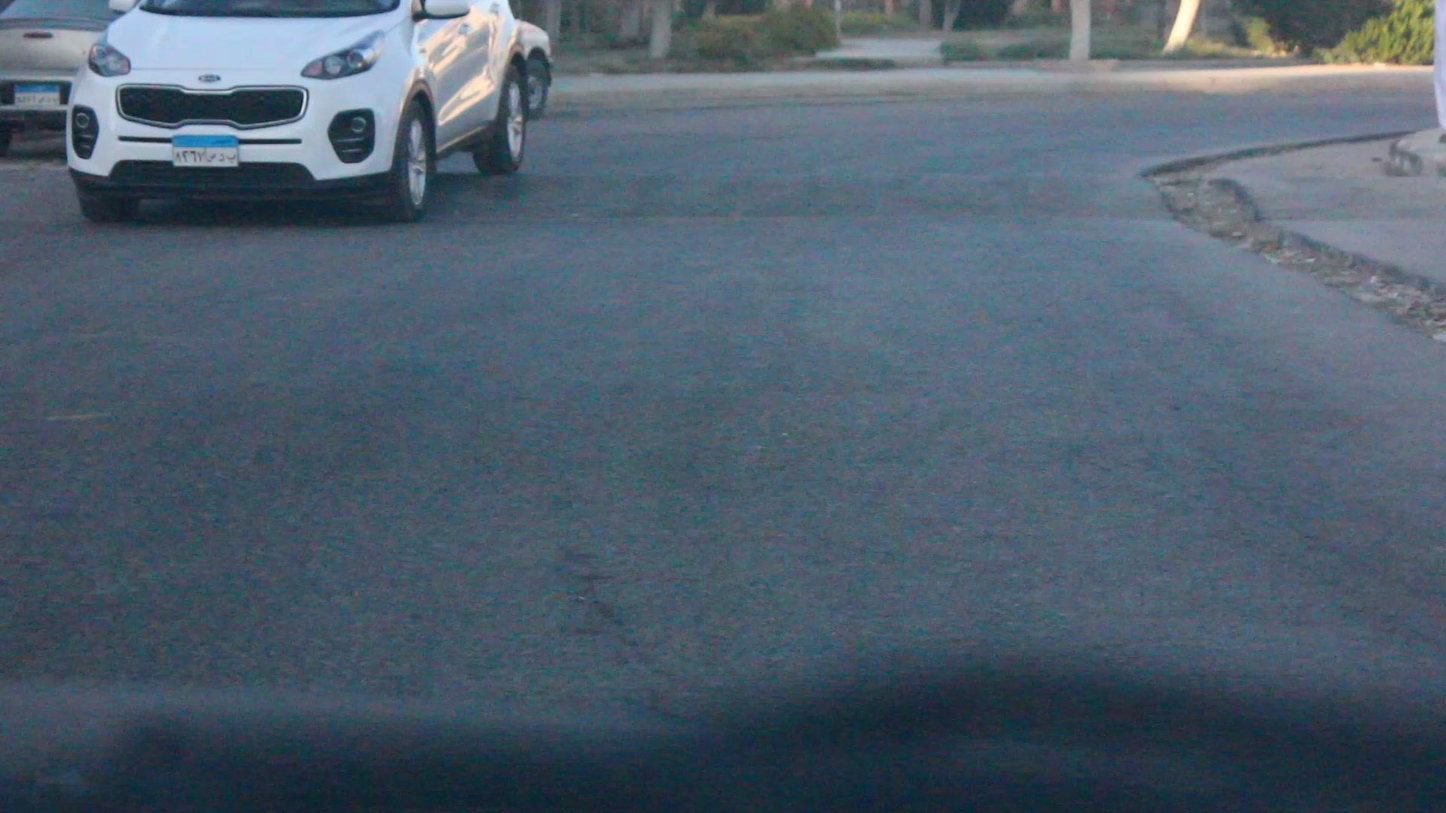Bump: (435, 173, 1173, 226)
